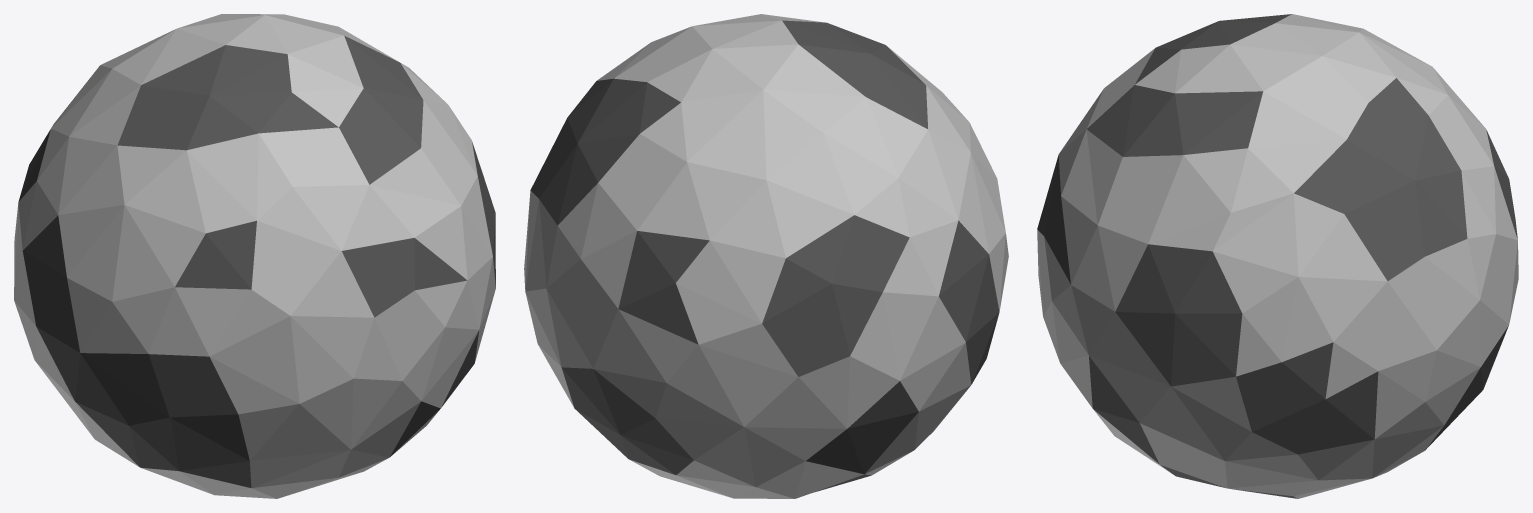
File: Moon.fbx
The picture shows the model from 3 angles, left to right: view 1: azimuth 30°, elevation 25°; view 2: azimuth 150°, elevation 25°; view 3: azimuth 270°, elevation 25°; orthographic projection.
Parts seen in each view (by area): view 1: Moon; view 2: Moon; view 3: Moon.
Boxes of the visible parts, x1,y1,x2,y2 form: Moon: (14, 14, 495, 498); Moon: (524, 14, 1008, 498); Moon: (1037, 14, 1518, 498).
Size of the model in its own units: 132 by 132 by 132.
